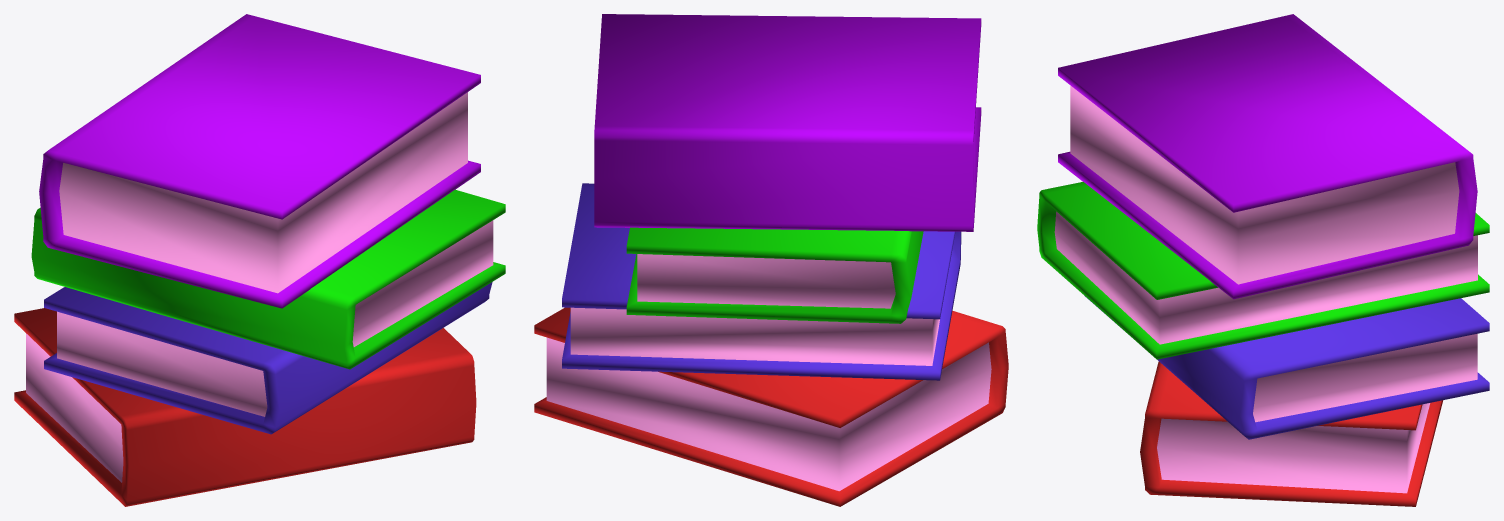
File: Books_02.fbx
3 renders of one model, left to right at view 1: azimuth 30°, elevation 25°; view 2: azimuth 150°, elevation 25°; view 3: azimuth 270°, elevation 25°, orthographic. The views are drawn at different scales.
Parts seen in each view (by area): view 1: Books_02; view 2: Books_02; view 3: Books_02.
Part boxes in pixels (bbox=[...]): Books_02: bbox=[14, 14, 505, 506]; Books_02: bbox=[534, 14, 1008, 506]; Books_02: bbox=[1037, 14, 1489, 506].
Size of the model in its own units: 0.5202 by 0.4967 by 0.3807.
